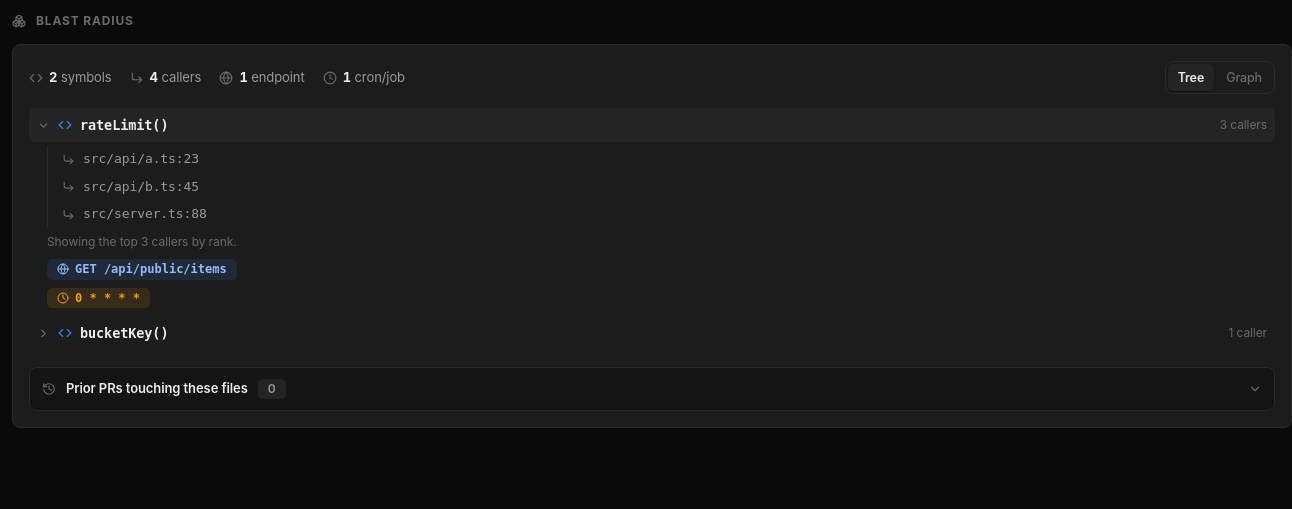
Test: BlastRadiusCard — tree › summarises the map and lists each symbol's callers, endpoints and crons
Expected: the list items read "2 symbols", "4 callers", "1 endpoint", "1 cron/job", in this order, [29,68,112,87]; [130,68,201,87]; [219,68,305,87]; [323,68,405,87]
Expected: the button "rateLimit() 3 callers" is shown, [29,108,1275,142]
Click the button "bucketKey() 1 caller".
click(124, 333)  # box [29,316,1275,351]
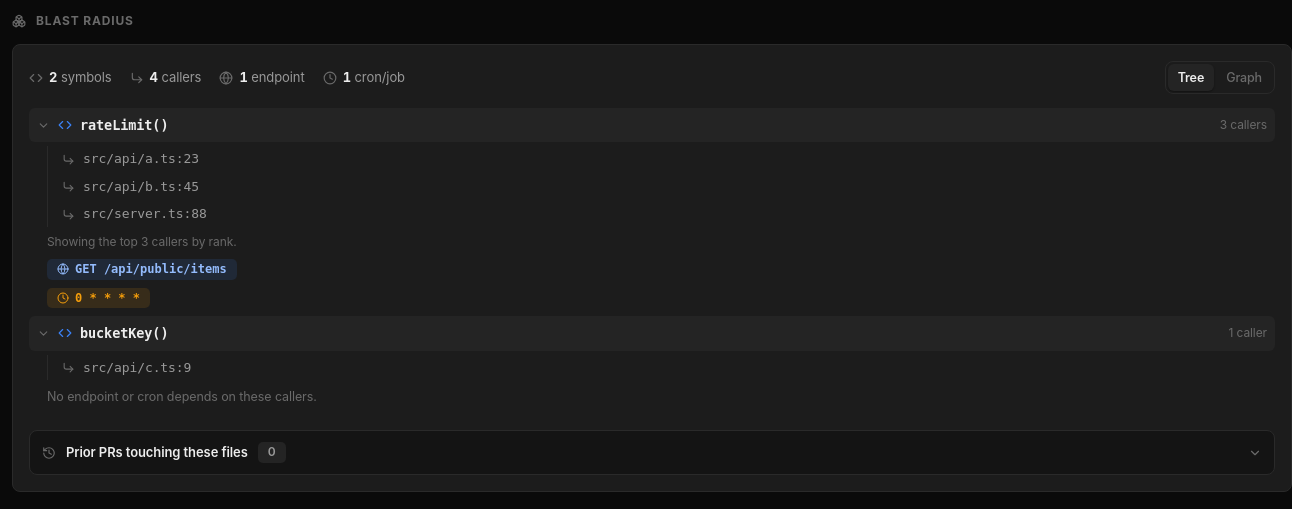
Expected: the link "src/api/c.ts:9" is shown, [83,360,191,375]
Expected: the text "No endpoint or cron depends on these callers." is shown, [47,389,317,404]
Click the button "rateLimit() 3 callers".
click(124, 125)  # box [29,108,1275,142]
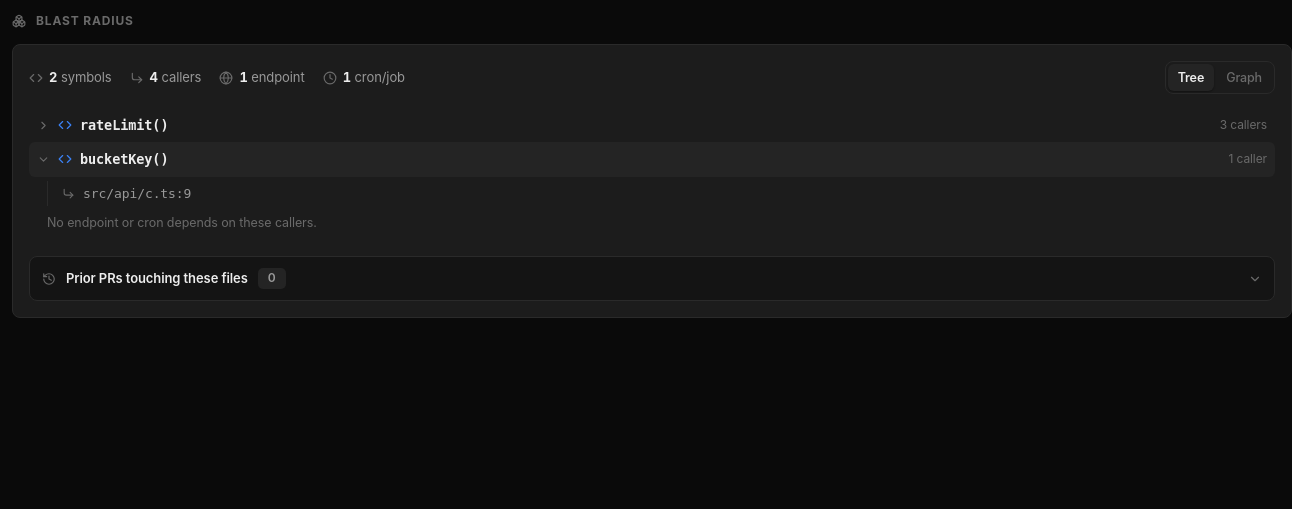
Expected: the link "src/api/a.ts:23" is gone
